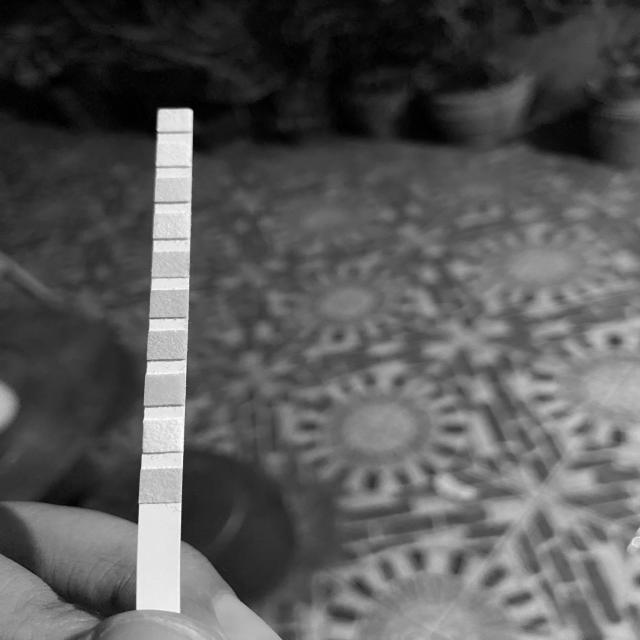Bilirubin: (144, 421, 182, 451)
Blood: (152, 291, 186, 317)
Glucose: (140, 470, 182, 501)
Ketone: (146, 376, 184, 404)
Leukocytes: (160, 109, 191, 131)
Protein: (154, 215, 190, 238)
SpGravity: (150, 332, 186, 358)
Urobilinogen: (156, 178, 190, 200), (156, 145, 191, 166)
background: (0, 0, 640, 640)
pH: (152, 252, 188, 276)
strip: (136, 109, 193, 613)
